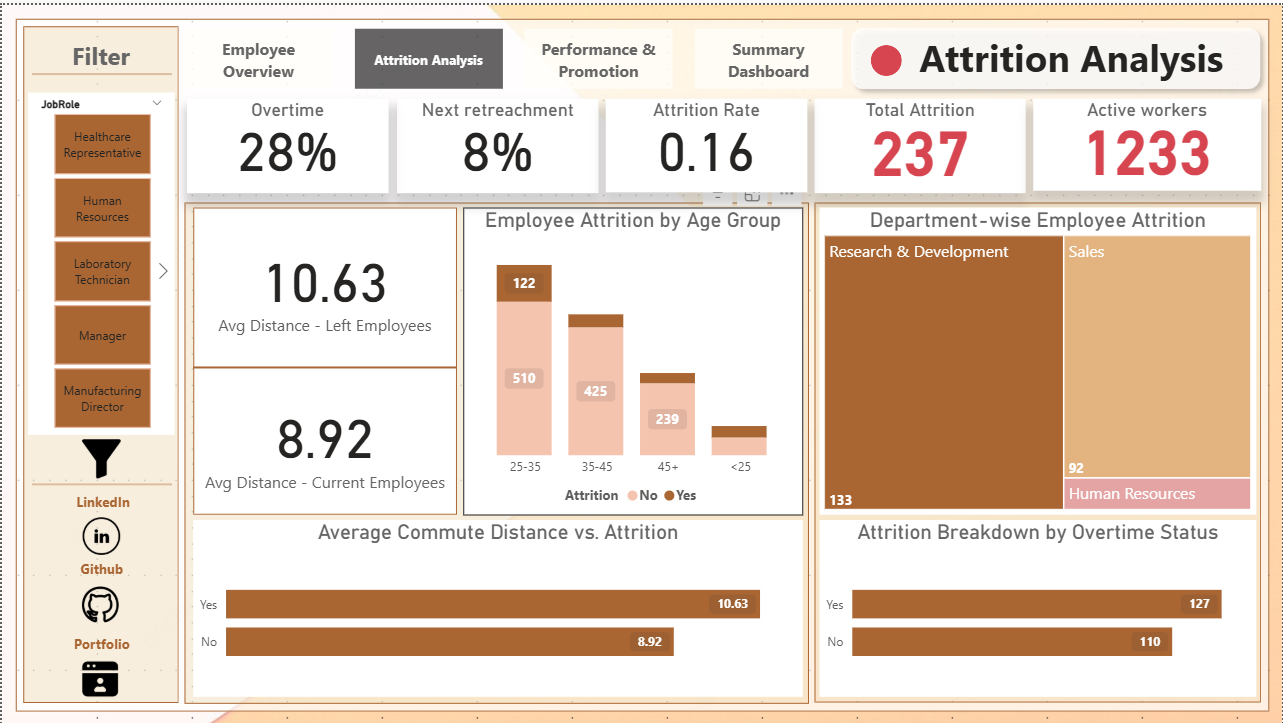

What the dashboard file says about the page in this screenshot:
{"tool":"powerbi","page":{"name":" Attrition Analysis","canvas":[1280,720],"ordinal":1},"visuals":[{"type":"shape","box":[13.9,13.9,1253.6,692.9],"z":0},{"type":"shape","box":[812.3,197.8,446.6,500.1],"z":1000},{"type":"shape","box":[182.9,197.8,624.5,501.3],"z":2000},{"type":"shape","box":[21.1,21.1,155.5,676.7],"z":3000},{"type":"shape","box":[840.3,13.9,427.1,79.3],"z":4000},{"type":"shape","box":[868.3,39.8,31.1,31.1],"z":5000},{"type":"card","title":"Total Attrition","fields":{"Values":["Measure.Attrition by Department"]},"box":[812.3,93.3,211.5,94.5],"z":6000},{"type":"card","title":"Active workers","fields":{"Values":["Measure.Active workers"]},"box":[1031.2,93.3,227.6,92.1],"z":7000},{"type":"treemap","title":"Department-wise Employee Attrition","fields":{"Values":["Measure.Total Attrition"],"Group":["HR Analytics Data.Department"]},"box":[817.3,202.8,436.6,307.3],"z":8000},{"type":"columnChart","title":"Employee Attrition by Age Group","fields":{"Category":["HR Analytics Data.AgeGroup"],"Series":["HR Analytics Data.Attrition"],"Y":["Measure.Total Employees"]},"box":[461.5,202.8,339.6,307.3],"z":9000},{"type":"clusteredBarChart","title":"Attrition Breakdown by Overtime Status","fields":{"Y":["Measure.Total Attrition"],"Category":["HR Analytics Data.OverTime"]},"box":[817.3,515,436.6,176.6],"z":10000},{"type":"barChart","title":"Average Commute Distance vs. Attrition","fields":{"Category":["HR Analytics Data.Attrition"],"Y":["Avg(HR Analytics Data.DistanceFromHome)"]},"box":[191.6,515,609.5,176.6],"z":11000},{"type":"card","title":"Next retreachment","fields":{"Values":["Table.At Risk %"]},"box":[395.6,93.3,201.5,94.5],"z":12000},{"type":"textbox","box":[868.2,22.3,391,62.6],"z":13000},{"type":"pageNavigator","box":[182.9,23.6,658.1,61],"z":14000},{"type":"card","title":"Overtime","fields":{"Values":["Measure.Overtime %"]},"box":[185.3,93.3,201.5,94.5],"z":15000},{"type":"card","title":"Attrition Rate","fields":{"Values":["Measure.Attrition Rate"]},"box":[603.3,93.3,201.5,93.3],"z":16000},{"type":"shape","box":[30.2,61.6,140.1,15.7],"z":17000},{"type":"shape","box":[191.6,202.8,263.7,307.3],"z":18000},{"type":"card","fields":{"Values":["Measure.Avg Distance - Current Employees"]},"box":[196.5,368.2,253.8,139.3],"z":19000},{"type":"card","fields":{"Values":["Measure.Avg Distance - Left Employees"]},"box":[196.5,207.7,253.8,148],"z":20000},{"type":"shape","box":[191.6,355.8,263.7,12.4],"z":21000},{"type":"textbox","box":[33.6,29.9,130.6,51],"z":22000},{"type":"slicer","fields":{"Values":["HR Analytics Data.JobRole"]},"box":[26.2,87.5,146.2,342.5],"z":23000},{"type":"image","box":[75,426.2,48.8,55],"z":24000},{"type":"textbox","box":[56.2,482.5,90,30],"z":25000},{"type":"textbox","box":[55,550,90,30],"z":26000},{"type":"textbox","box":[55,625,90,30],"z":27000},{"type":"shape","box":[30,471.2,140,16.2],"z":28000},{"type":"image","box":[75,507.5,48.8,47.5],"z":29000},{"type":"image","box":[68.8,576.2,58.8,46.2],"z":30000},{"type":"image","box":[75,650,46.2,48.8],"z":31000}]}

Visuals, with their boxes in screenshot pixels (x1, y1, x2, y2), scaled from the page's 1280x720 canvas onto the 1283x723 screenshot:
shape: {"x1": 14, "y1": 14, "x2": 1270, "y2": 710}
shape: {"x1": 814, "y1": 199, "x2": 1262, "y2": 701}
shape: {"x1": 183, "y1": 199, "x2": 809, "y2": 702}
shape: {"x1": 21, "y1": 21, "x2": 177, "y2": 701}
shape: {"x1": 842, "y1": 14, "x2": 1270, "y2": 94}
shape: {"x1": 870, "y1": 40, "x2": 902, "y2": 71}
"Total Attrition" card: {"x1": 814, "y1": 94, "x2": 1026, "y2": 189}
"Active workers" card: {"x1": 1034, "y1": 94, "x2": 1262, "y2": 186}
"Department-wise Employee Attrition" treemap: {"x1": 819, "y1": 204, "x2": 1257, "y2": 512}
"Employee Attrition by Age Group" columnChart: {"x1": 463, "y1": 204, "x2": 803, "y2": 512}
"Attrition Breakdown by Overtime Status" clusteredBarChart: {"x1": 819, "y1": 517, "x2": 1257, "y2": 694}
"Average Commute Distance vs. Attrition" barChart: {"x1": 192, "y1": 517, "x2": 803, "y2": 694}
"Next retreachment" card: {"x1": 397, "y1": 94, "x2": 598, "y2": 189}
textbox: {"x1": 870, "y1": 22, "x2": 1262, "y2": 85}
pageNavigator: {"x1": 183, "y1": 24, "x2": 843, "y2": 85}
"Overtime" card: {"x1": 186, "y1": 94, "x2": 388, "y2": 189}
"Attrition Rate" card: {"x1": 605, "y1": 94, "x2": 807, "y2": 187}
shape: {"x1": 30, "y1": 62, "x2": 171, "y2": 78}
shape: {"x1": 192, "y1": 204, "x2": 456, "y2": 512}
card - Measure.Avg Distance - Current Employees: {"x1": 197, "y1": 370, "x2": 451, "y2": 510}
card - Measure.Avg Distance - Left Employees: {"x1": 197, "y1": 209, "x2": 451, "y2": 357}
shape: {"x1": 192, "y1": 357, "x2": 456, "y2": 370}
textbox: {"x1": 34, "y1": 30, "x2": 165, "y2": 81}
slicer - HR Analytics Data.JobRole: {"x1": 26, "y1": 88, "x2": 173, "y2": 432}
image: {"x1": 75, "y1": 428, "x2": 124, "y2": 483}
textbox: {"x1": 56, "y1": 485, "x2": 147, "y2": 515}
textbox: {"x1": 55, "y1": 552, "x2": 145, "y2": 582}
textbox: {"x1": 55, "y1": 628, "x2": 145, "y2": 658}
shape: {"x1": 30, "y1": 473, "x2": 170, "y2": 489}
image: {"x1": 75, "y1": 510, "x2": 124, "y2": 557}
image: {"x1": 69, "y1": 579, "x2": 128, "y2": 625}
image: {"x1": 75, "y1": 653, "x2": 121, "y2": 702}
